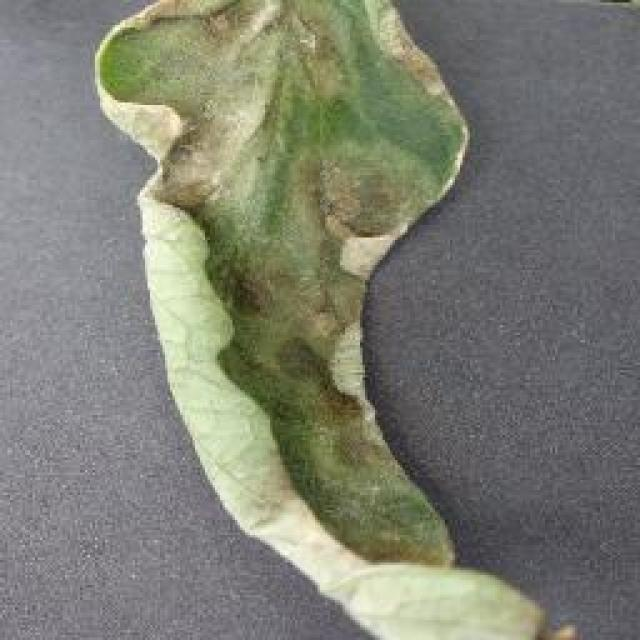Tomato late blight leaf: (95, 0, 585, 640)
